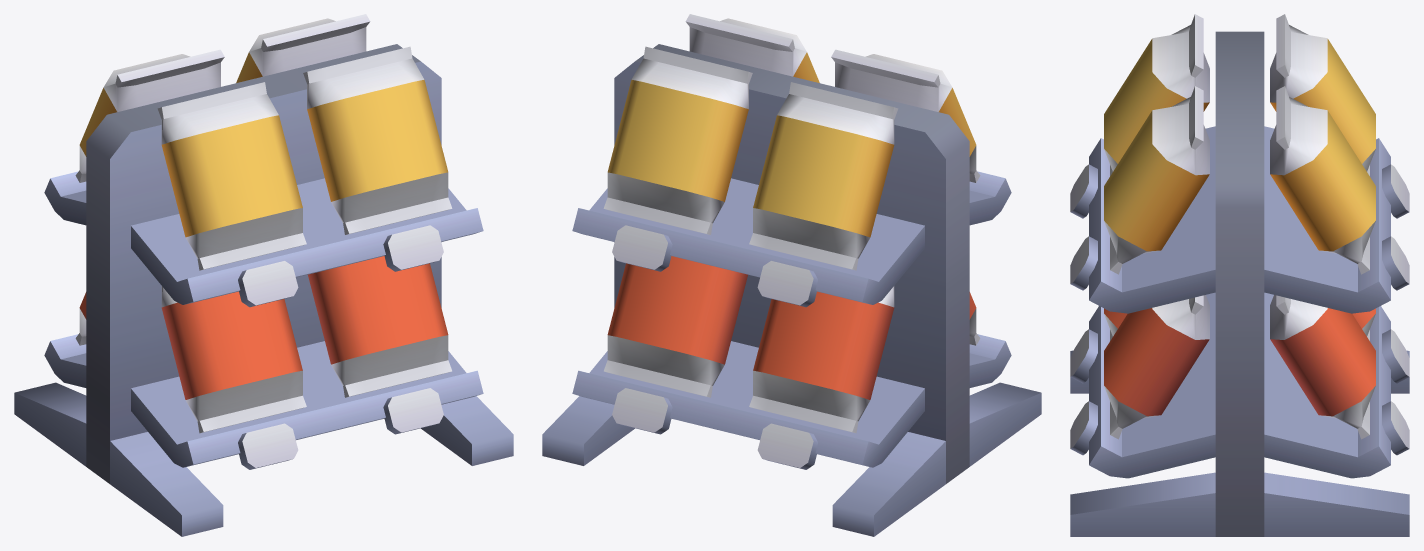
File: shelf-bags.glb
3 views of the same model, side by side, from view 1: azimuth 30°, elevation 25°; view 2: azimuth 150°, elevation 25°; view 3: azimuth 270°, elevation 25° (orthographic).
Visible parts, largest first — view 1: shelf-bags, bag (×6); view 2: shelf-bags, bag (×6); view 3: shelf-bags, bag (×6).
Part boxes in pixels (x1,y1,x2,y2): shelf-bags: [14, 44, 513, 536]; bag (×6): [75, 14, 452, 433]; shelf-bags: [542, 44, 1041, 536]; bag (×6): [603, 14, 980, 433]; shelf-bags: [1070, 31, 1409, 536]; bag (×6): [1104, 14, 1375, 439].
Bounding box in the file's own units: 0.8 × 0.8634 × 0.7.
Materials: 1 (1 with a texture image).
